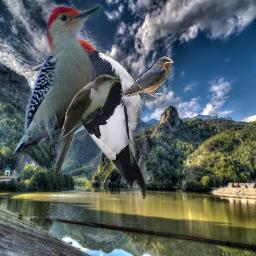Cuckoo: (50, 73, 122, 180)
Swallow: (120, 56, 174, 100)
Woodpecker: (25, 35, 156, 199), (11, 3, 104, 158)
